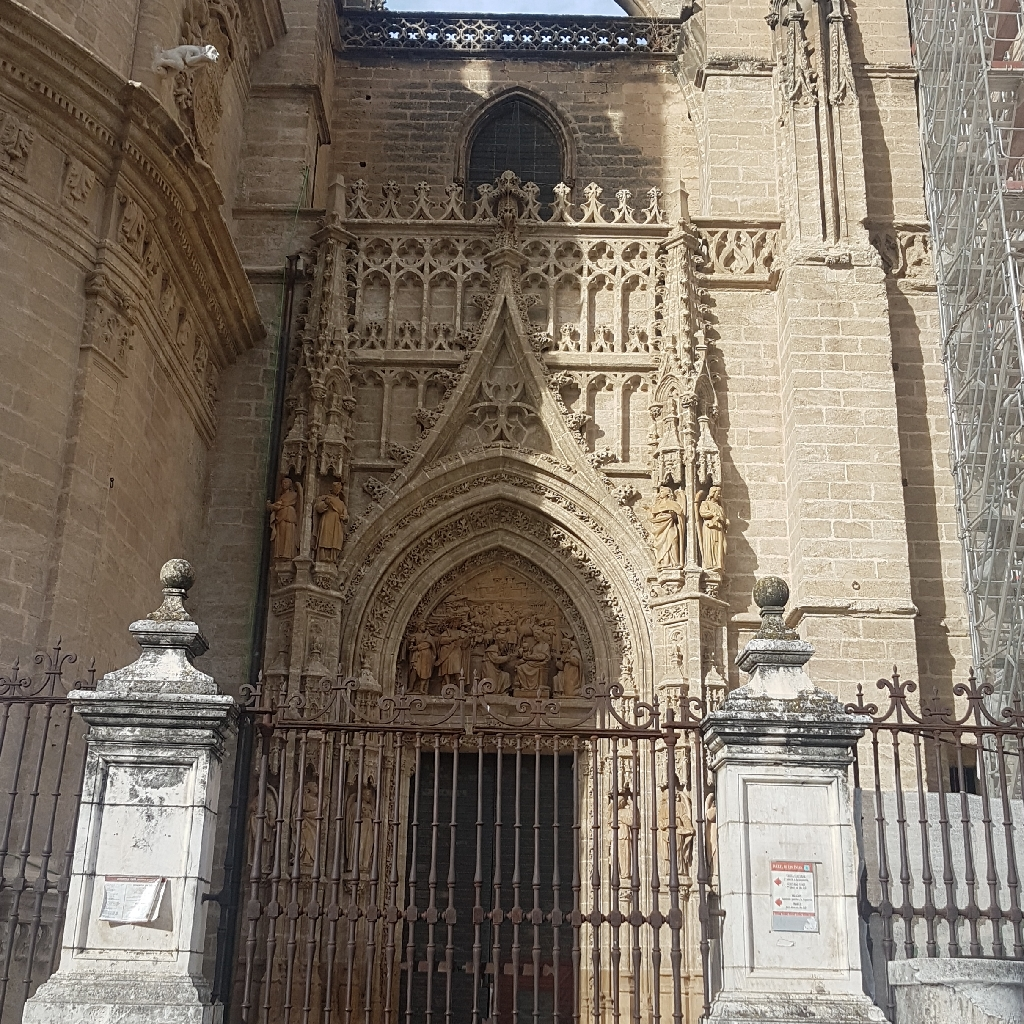arco-apuntado: (340, 447, 645, 689), (455, 82, 574, 161)
pinaculo-gotico: (280, 205, 362, 436), (650, 209, 721, 417)
